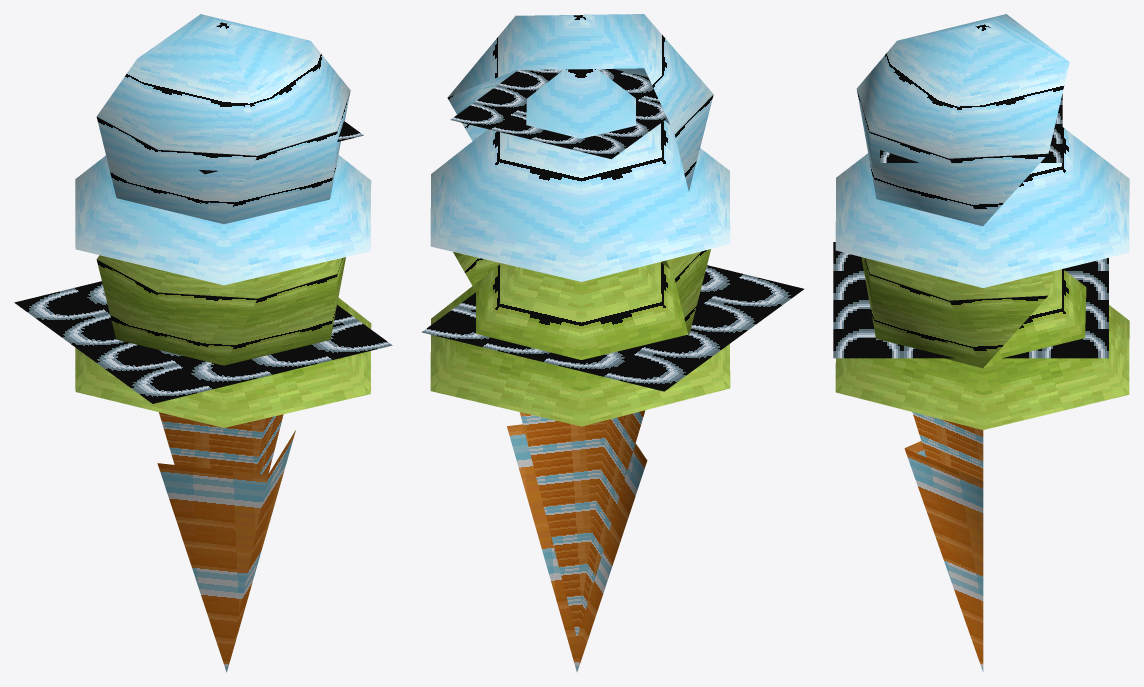
Rendered from 5619u_ice00_hs.gltf.
3 views of the same model, side by side, from view 1: azimuth 30°, elevation 25°; view 2: azimuth 150°, elevation 25°; view 3: azimuth 270°, elevation 25° (orthographic).
Parts seen in each view (by area): view 1: 5619u_ice00_hs; view 2: 5619u_ice00_hs; view 3: 5619u_ice00_hs.
Part boxes in pixels (left/top/right/bottom): 5619u_ice00_hs: left=14, top=14, right=392, bottom=672; 5619u_ice00_hs: left=421, top=14, right=803, bottom=672; 5619u_ice00_hs: left=833, top=14, right=1129, bottom=671.
Size of the model in its own units: 0.4375 by 0.9199 by 0.3818.
Materials: 6 (6 with a texture image).
